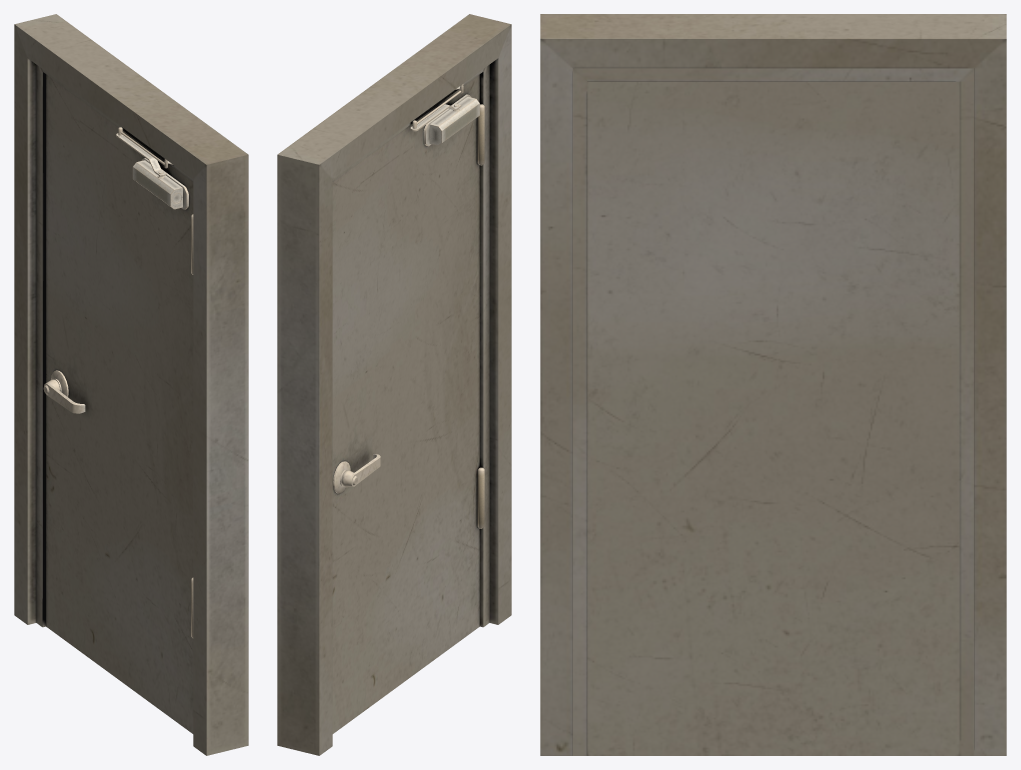
The model's file is doorwhattheflipp7.7.fbx.
The picture shows the model from 3 angles, left to right: view 1: azimuth 30°, elevation 25°; view 2: azimuth 150°, elevation 25°; view 3: azimuth 270°, elevation 25°; orthographic projection. The views are drawn at different scales.
Parts seen in each view (by area): view 1: J1_a03.001; view 2: J1_a03.001; view 3: J1_a03.001.
Part boxes in pixels (x1,y1,x2,y2): J1_a03.001: (14, 14, 248, 755); J1_a03.001: (277, 14, 511, 755); J1_a03.001: (540, 14, 1006, 755).
Bounding box in the file's own units: 20.77 × 261 × 154.
